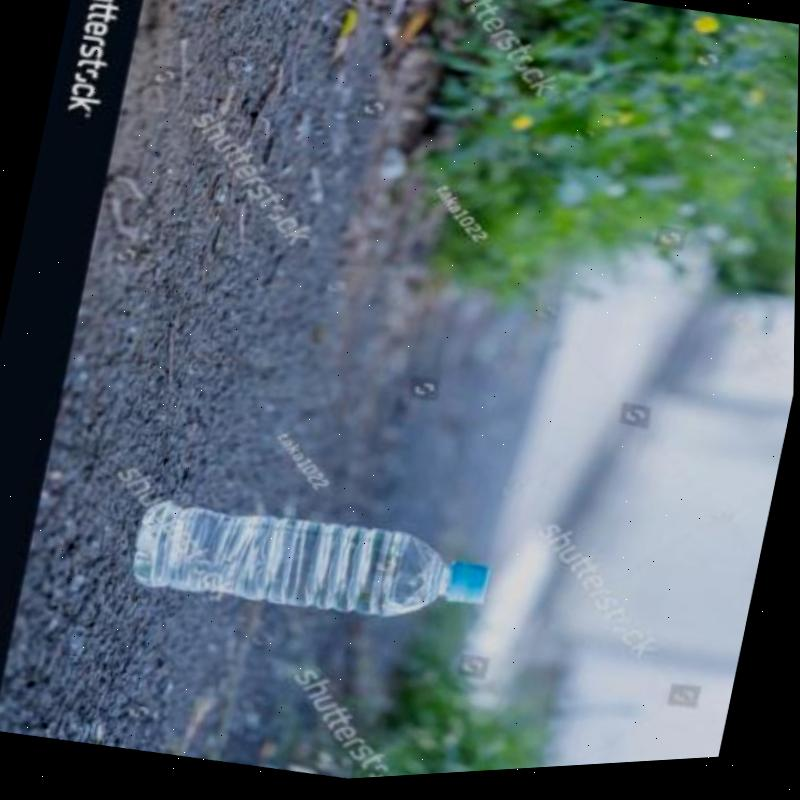botella: (129, 481, 500, 655)
